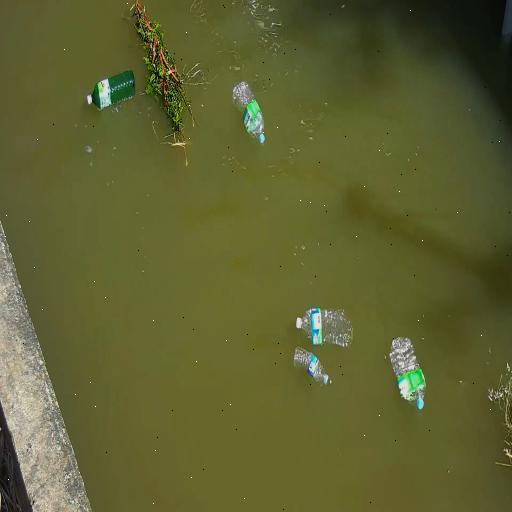plastic: (294, 302, 358, 348), (390, 334, 426, 412), (222, 87, 266, 143), (84, 68, 134, 114), (282, 346, 332, 390)
twig: (132, 2, 198, 140), (485, 355, 512, 465)
